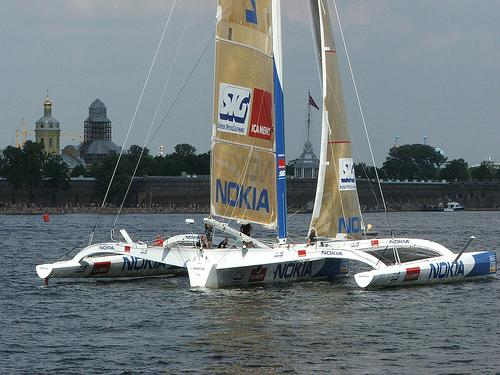Ship: (37, 1, 499, 290)
